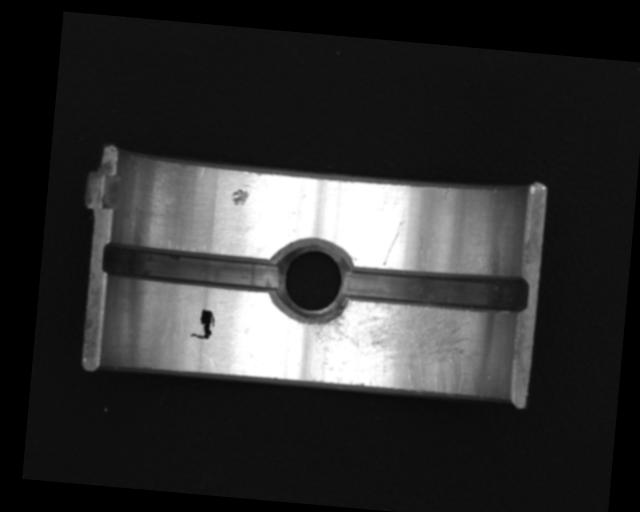blot: (190, 307, 216, 341)
bruise: (229, 188, 250, 207)
gap: (340, 259, 529, 318), (102, 242, 282, 294)
hole: (270, 238, 352, 327)
nick: (382, 220, 403, 268)
scratch: (307, 298, 491, 398)
